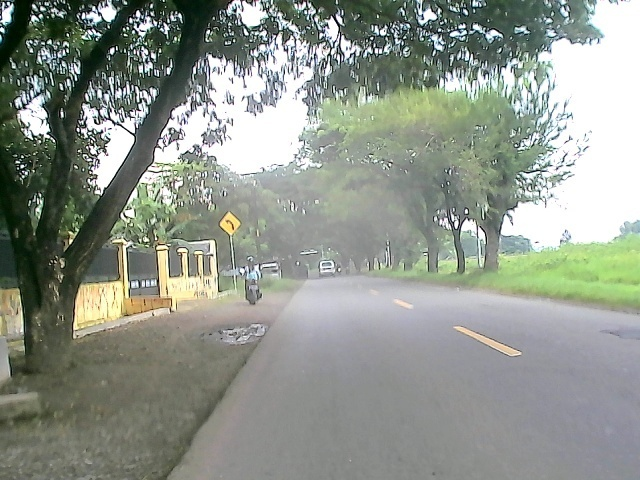Tikungan ke kiri: (216, 211, 246, 239)
